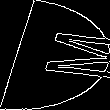M_W: (6, 28, 104, 82)
